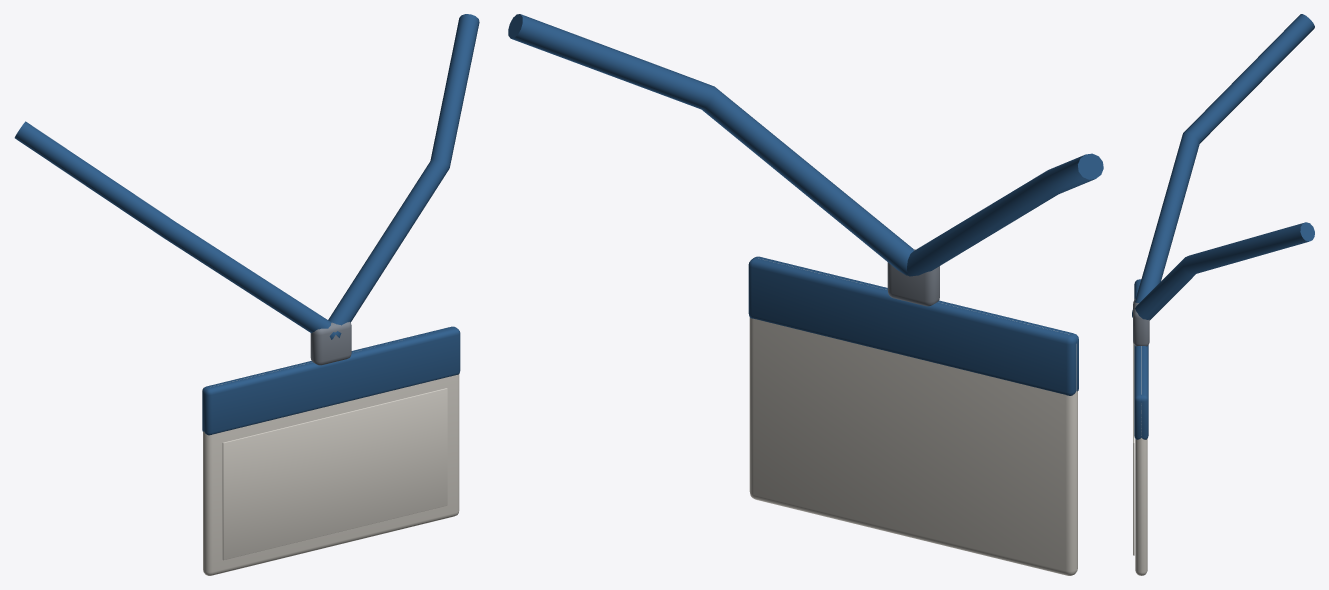
File: cracha.glb
3 views of the same model, side by side, from view 1: azimuth 30°, elevation 25°; view 2: azimuth 150°, elevation 25°; view 3: azimuth 270°, elevation 25° (orthographic). The views are drawn at different scales.
Visible parts, largest first — view 1: cracha_face, Cube, cracha_cartao, tubo, tubo.001, Cube.001; view 2: cracha_cartao, Cube, tubo.001, tubo, Cube.001; view 3: tubo, tubo.001, cracha_cartao, Cube, Cube.001, cracha_face.
Part boxes in pixels (x1=…): cracha_face: x1=222, y1=388, x2=447, y2=560; Cube: x1=202, y1=326, x2=460, y2=435; cracha_cartao: x1=203, y1=364, x2=459, y2=575; tubo: x1=14, y1=121, x2=335, y2=339; tubo.001: x1=328, y1=14, x2=479, y2=337; Cube.001: x1=310, y1=322, x2=351, y2=365; cracha_cartao: x1=749, y1=258, x2=1077, y2=575; Cube: x1=748, y1=256, x2=1078, y2=395; tubo.001: x1=508, y1=14, x2=913, y2=275; tubo: x1=907, y1=153, x2=1103, y2=276; Cube.001: x1=887, y1=249, x2=939, y2=306; tubo: x1=1132, y1=14, x2=1314, y2=313; tubo.001: x1=1132, y1=222, x2=1314, y2=320; cracha_cartao: x1=1135, y1=346, x2=1147, y2=575; Cube: x1=1134, y1=279, x2=1148, y2=439; Cube.001: x1=1133, y1=298, x2=1149, y2=346; cracha_face: x1=1133, y1=341, x2=1134, y2=555.
Bounding box in the file's own units: 0.6194 × 0.5303 × 0.2201.
